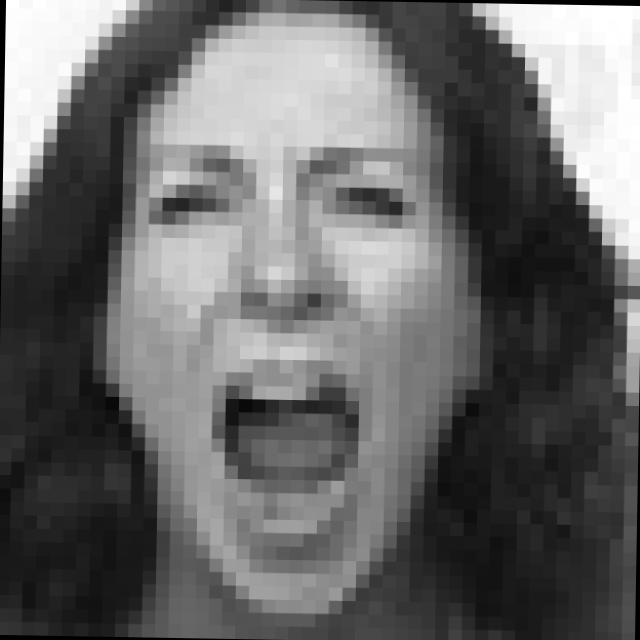angry: (133, 127, 424, 548)
